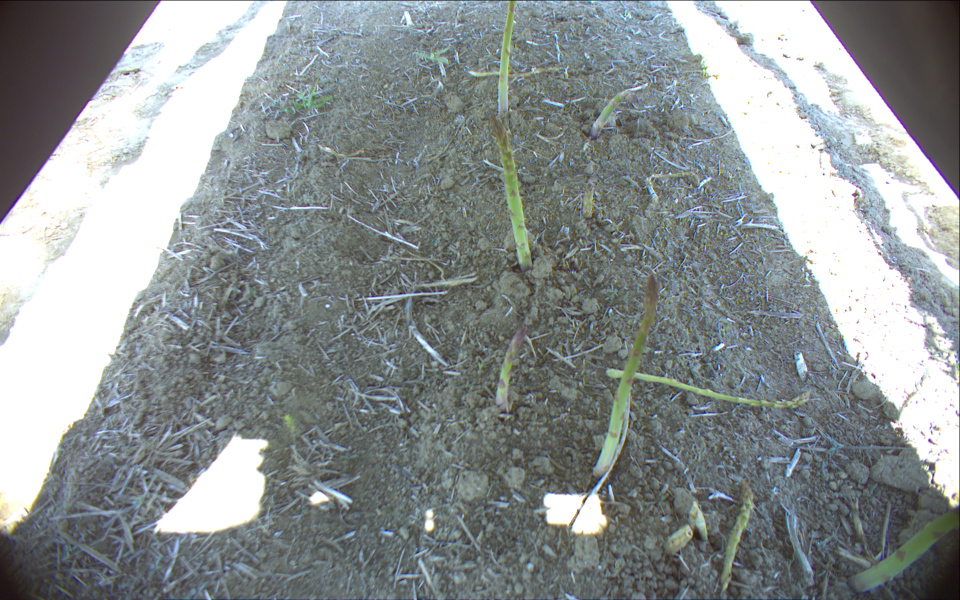aspa: (847, 502, 960, 593), (604, 367, 812, 411), (486, 113, 534, 273), (716, 479, 754, 600), (494, 322, 531, 415), (587, 89, 636, 140), (498, 1, 516, 118), (642, 169, 701, 201), (469, 64, 568, 80), (581, 178, 596, 222)
